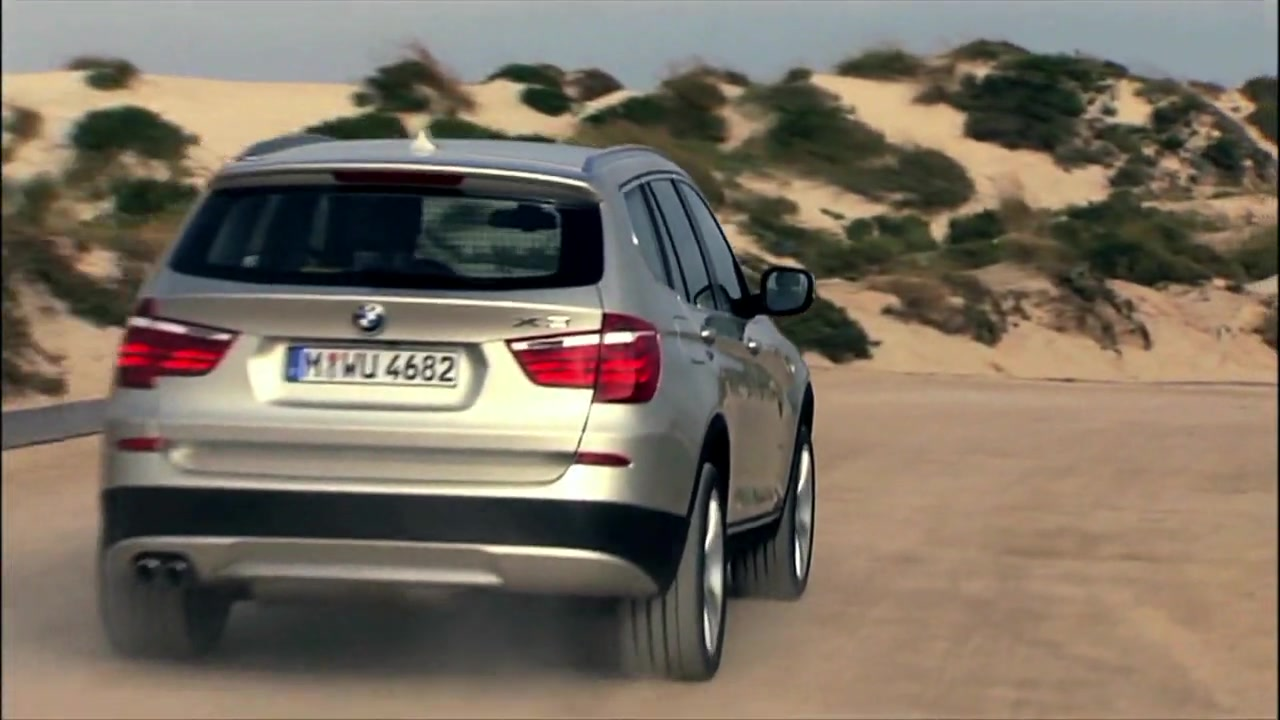car: (92, 130, 822, 683)
